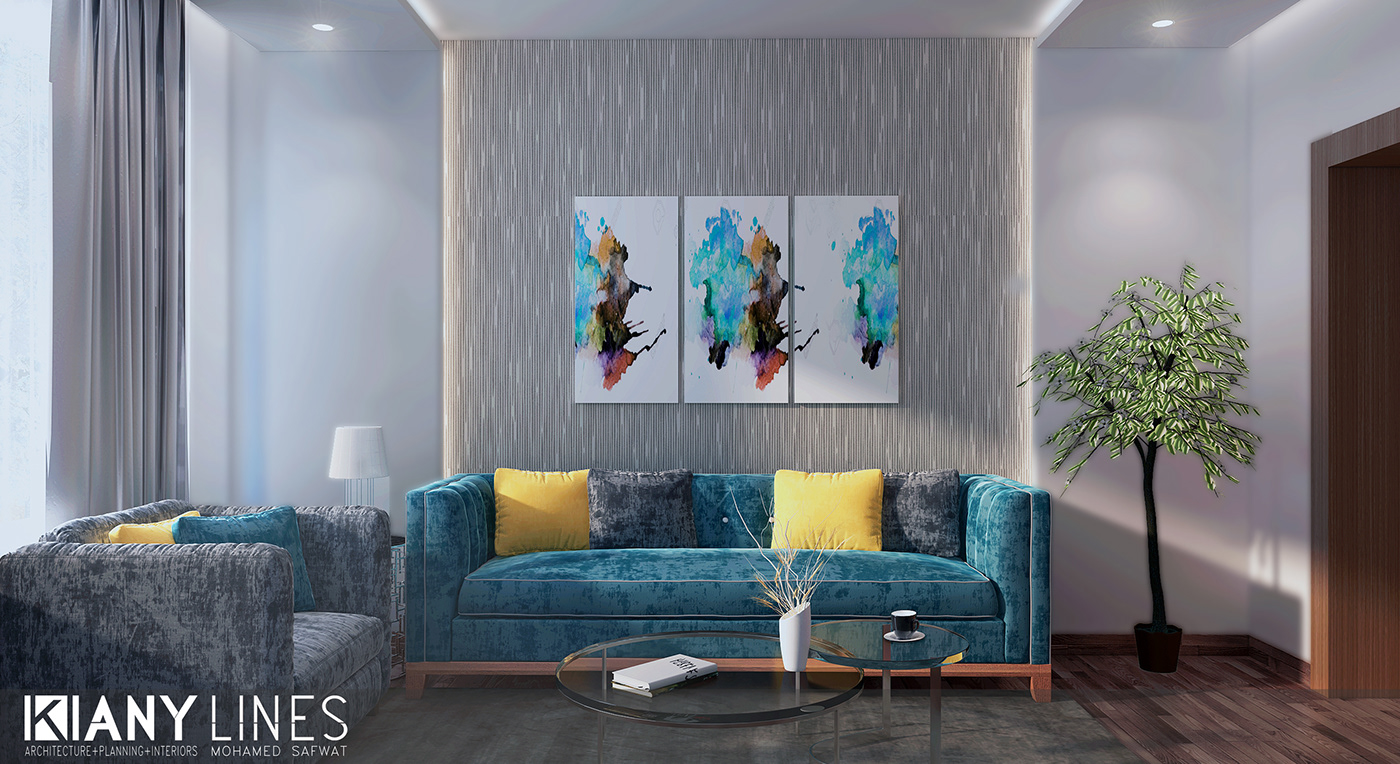biru: (409, 467, 1050, 658), (178, 509, 298, 545)
hitam: (594, 470, 693, 546), (1136, 623, 1187, 674), (894, 612, 918, 637)
kuning: (773, 463, 883, 550), (493, 470, 587, 544)
putih: (328, 425, 387, 482), (781, 616, 810, 668)
